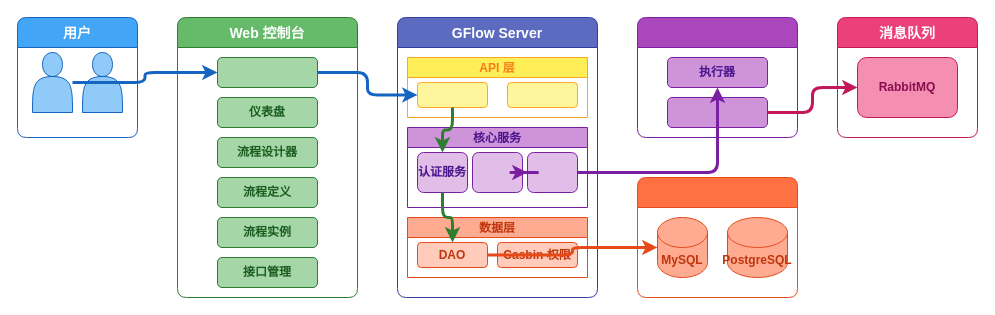
Image size: 995x315. Some labels were removed from this diagram. Here are the shapes that lost their labels. From the top down, the box of each, then its label:
(32, 52, 72, 112): 管理员
(82, 52, 122, 112): 开发者
(216, 56, 318, 88): 登录认证
(636, 16, 798, 138): GFlow Runner
(416, 82, 488, 108): REST API
(506, 82, 578, 108): gRPC API
(666, 96, 768, 128): 任务插件
(472, 152, 522, 192): 调度服务
(526, 152, 578, 192): 分发服务
(636, 176, 798, 298): 数据库
